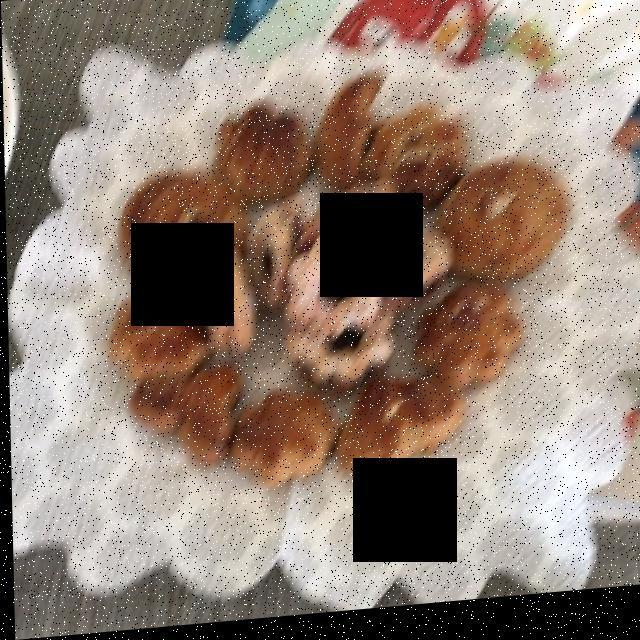biscuits: (111, 69, 569, 474)
